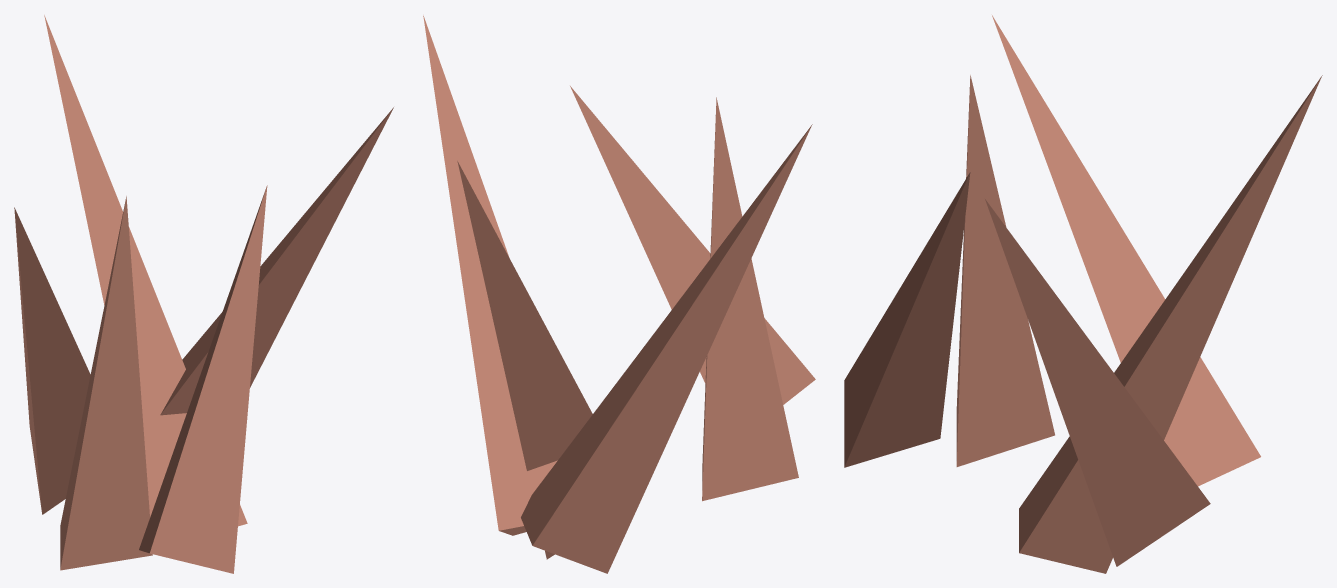
The model's file is ENV_Ember_Cinderleaf_C.fbx.
3 renders of one model, left to right at view 1: azimuth 30°, elevation 25°; view 2: azimuth 150°, elevation 25°; view 3: azimuth 270°, elevation 25°, orthographic. The views are drawn at different scales.
Visible parts, largest first — view 1: ENV_Ember_Cinderleaf_C; view 2: ENV_Ember_Cinderleaf_C; view 3: ENV_Ember_Cinderleaf_C.
Part boxes in pixels (x1,y1,x2,y2): ENV_Ember_Cinderleaf_C: (14,15,393,573); ENV_Ember_Cinderleaf_C: (423,15,815,573); ENV_Ember_Cinderleaf_C: (844,15,1322,573).
Bounding box in the file's own units: 0.7737 × 0.9049 × 0.7991.
